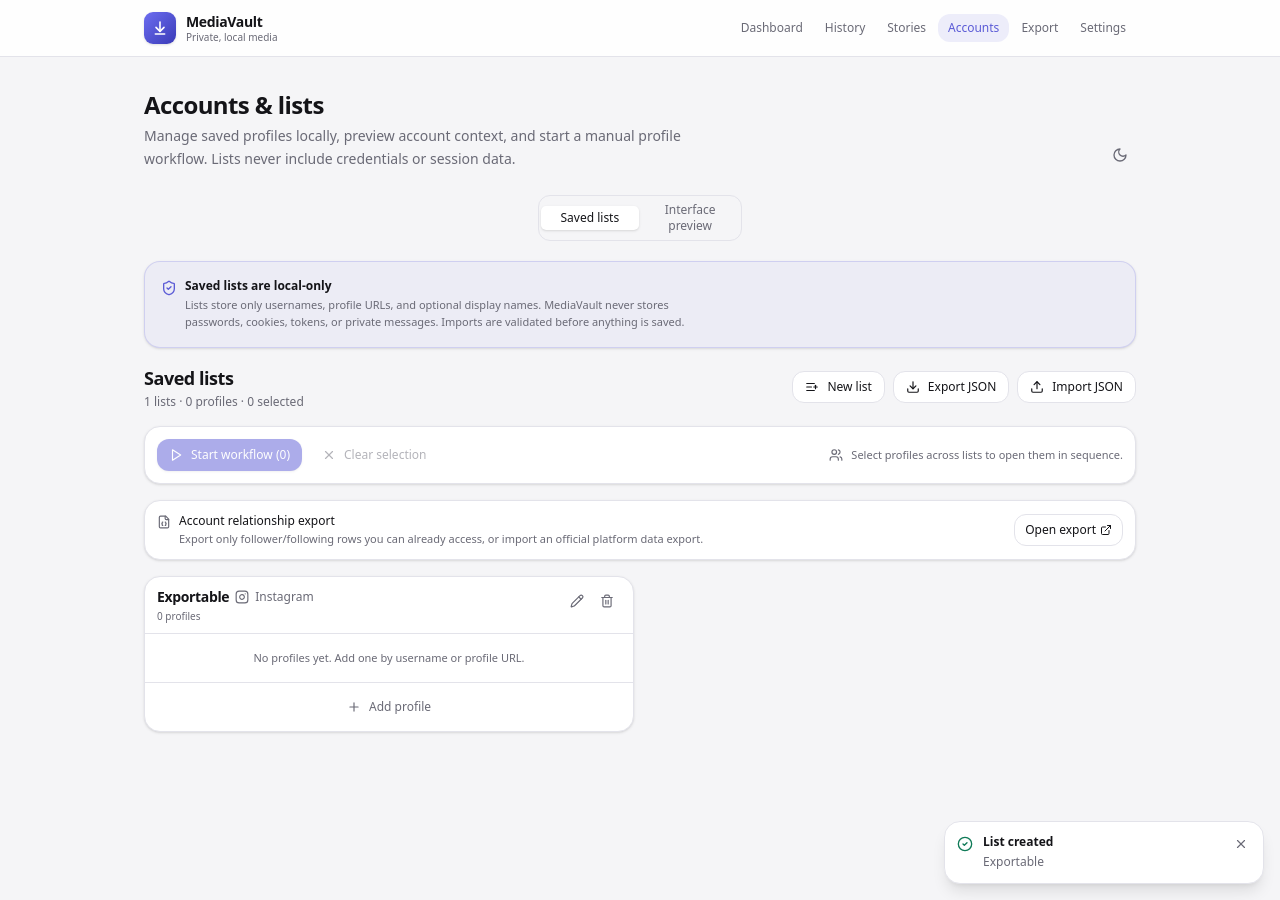
saved lists manager › confirms export and rejects malformed import JSON
Earlier steps of the test are not shown.
Later steps or results of the test are not shown.
expect the text "Exportable" next to "Instagram" is shown: met, box [157, 587, 229, 606]
Click the button "Export JSON" at point(951, 387), box [893, 371, 1009, 403]
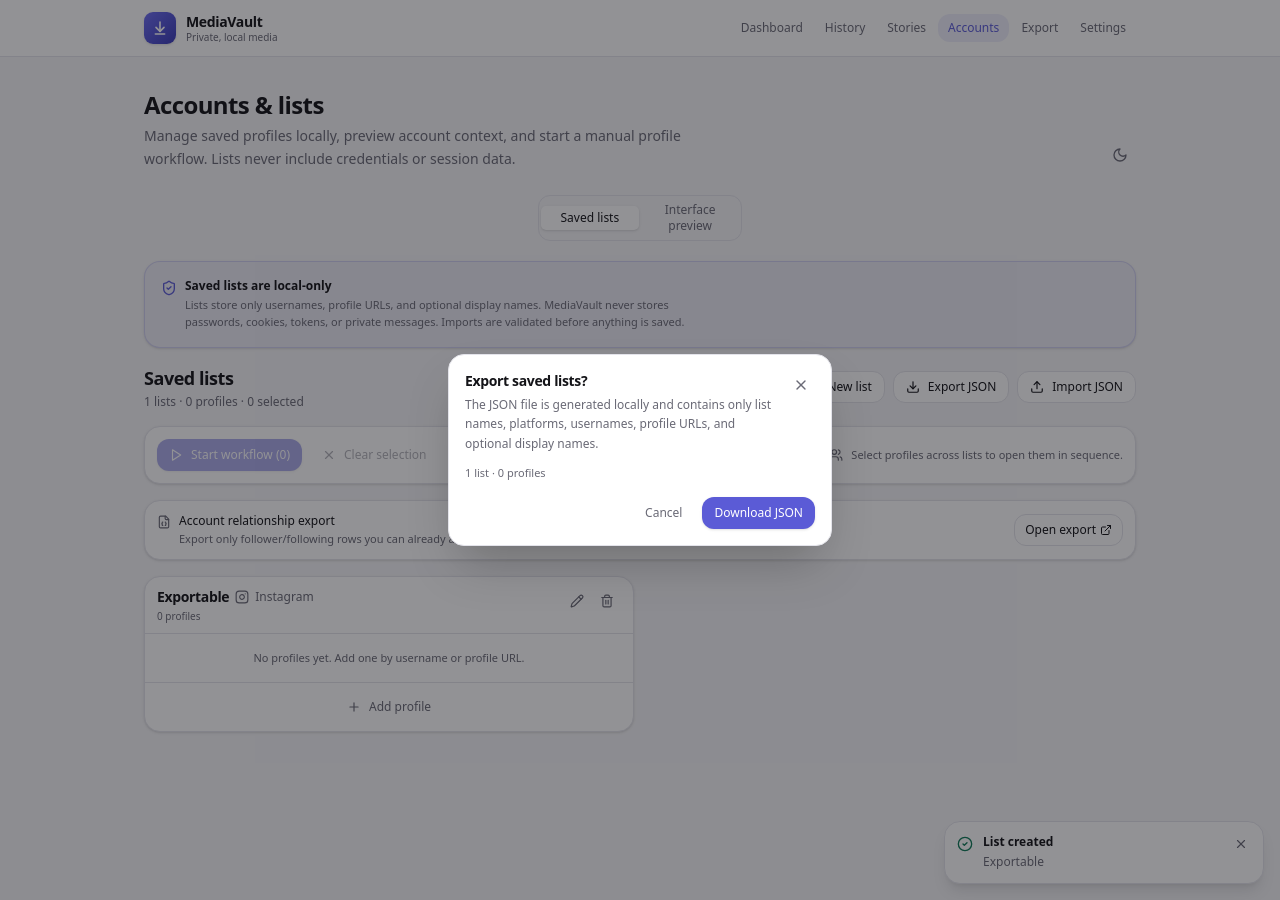
expect the heading "Export saved lists?" is shown: met, box [465, 371, 587, 390]
